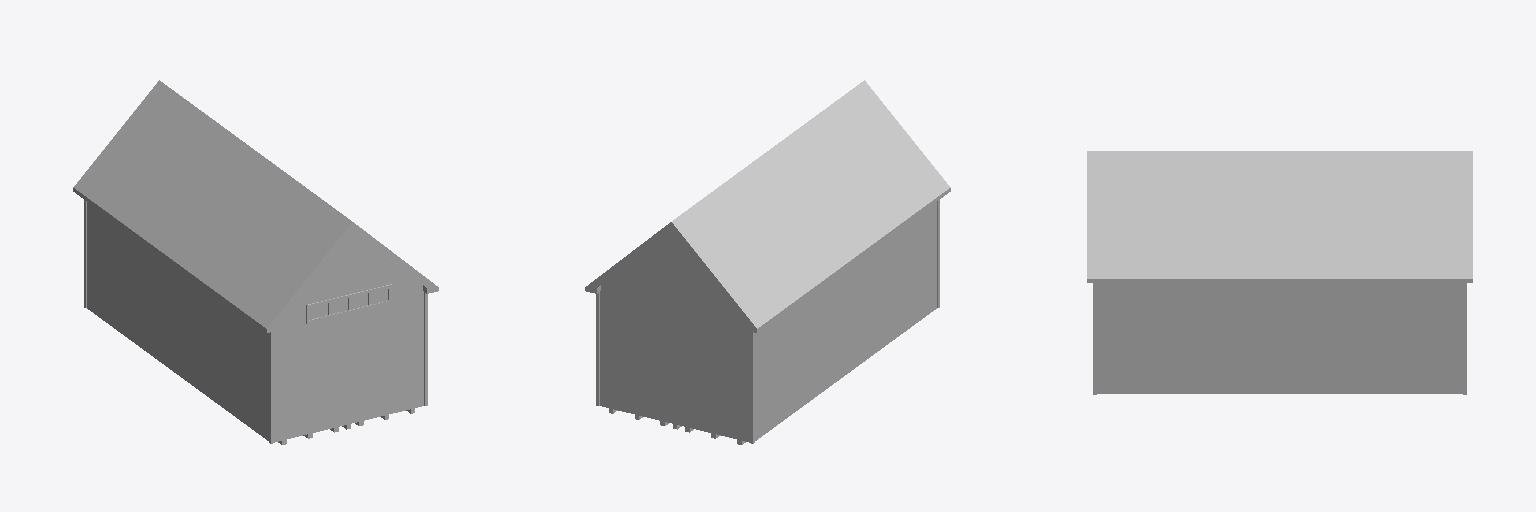
Rendered from Elite Garage_12x24.obj.
3 renders of one model, left to right at view 1: azimuth 30°, elevation 25°; view 2: azimuth 150°, elevation 25°; view 3: azimuth 270°, elevation 25°, orthographic.
Visible parts, largest first — view 1: Elite Garage_12x24.obj; view 2: Elite Garage_12x24.obj; view 3: Elite Garage_12x24.obj.
Part boxes in pixels (left/top/right/bottom): Elite Garage_12x24.obj: left=73, top=80, right=438, bottom=444; Elite Garage_12x24.obj: left=585, top=80, right=950, bottom=444; Elite Garage_12x24.obj: left=1087, top=151, right=1472, bottom=394.
Bounding box in the file's own units: 3.91 × 4.57 × 7.62.